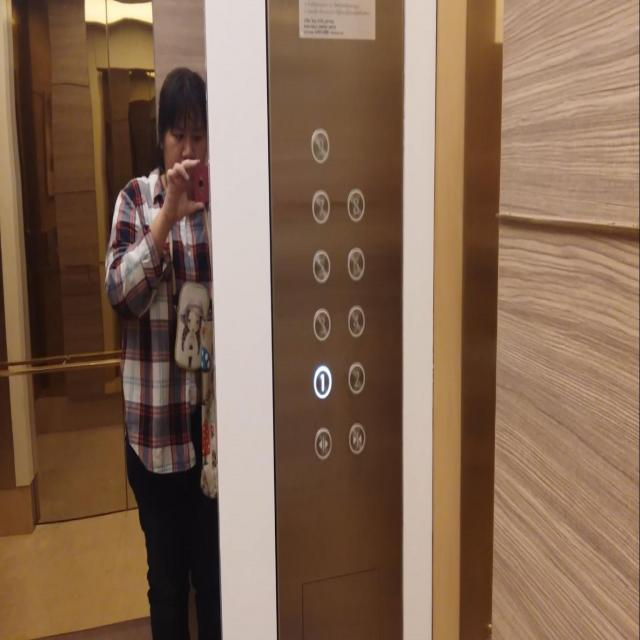1: (313, 364, 331, 398)
2: (348, 362, 365, 392)
3: (312, 308, 330, 340)
4: (347, 305, 365, 336)
5: (312, 249, 330, 282)
6: (346, 247, 364, 279)
7: (310, 188, 330, 222)
8: (346, 188, 364, 220)
9: (310, 128, 329, 162)
close: (348, 422, 365, 453)
open: (313, 427, 332, 458)
